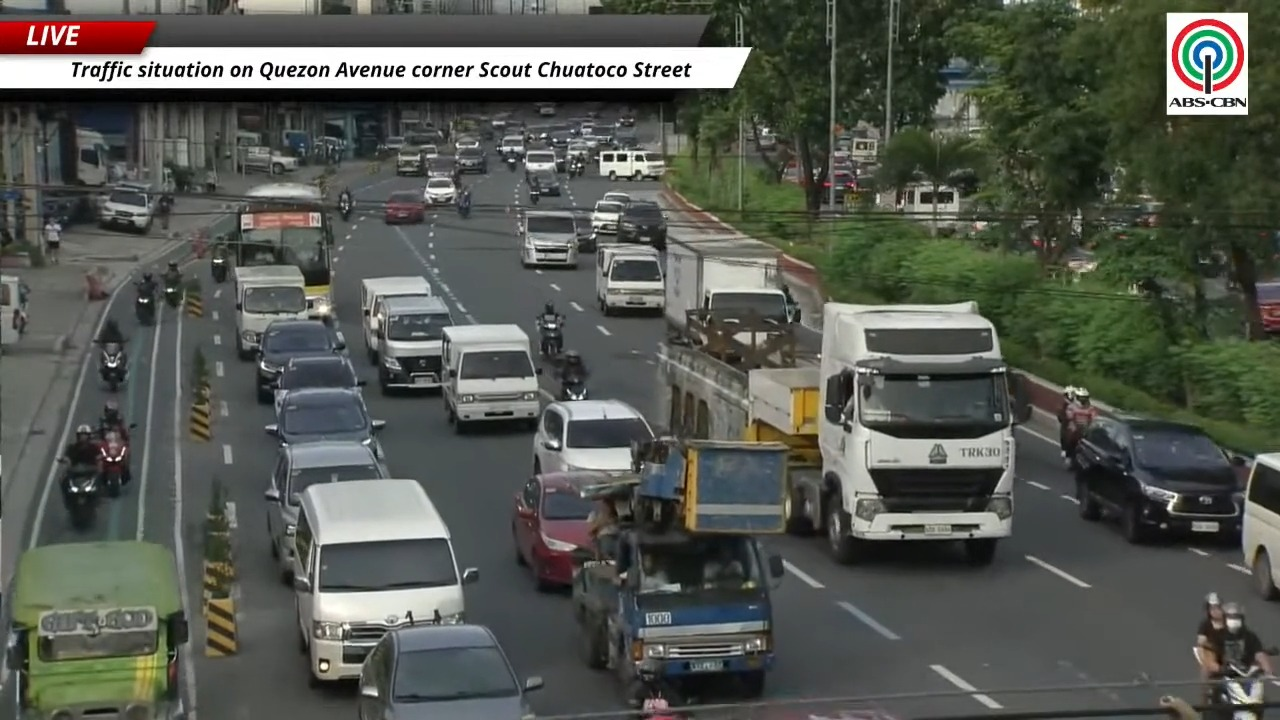bus: (229, 183, 333, 319)
car: (1071, 417, 1241, 543), (358, 617, 543, 719), (265, 441, 389, 583), (512, 472, 607, 589), (533, 399, 653, 473), (264, 388, 384, 457), (256, 319, 344, 403), (275, 354, 364, 412), (98, 184, 155, 233), (617, 202, 666, 250), (385, 190, 424, 224), (591, 200, 623, 233), (573, 209, 597, 252), (526, 170, 561, 196), (423, 177, 455, 204), (396, 142, 422, 175), (457, 147, 487, 172), (498, 134, 525, 157), (427, 156, 456, 177), (612, 130, 641, 149), (567, 140, 594, 159), (548, 129, 572, 149), (600, 191, 631, 205), (382, 136, 405, 154), (553, 144, 567, 172), (455, 137, 480, 151), (419, 144, 439, 159), (616, 112, 635, 127), (538, 103, 557, 117)
motorcycle: (631, 663, 684, 719), (1218, 663, 1265, 719), (62, 466, 100, 531), (1060, 411, 1095, 471), (98, 431, 129, 497), (99, 342, 126, 392), (539, 319, 563, 358), (135, 294, 154, 325), (559, 379, 587, 400), (211, 255, 227, 282), (164, 284, 182, 308), (339, 197, 352, 221), (569, 160, 584, 177), (457, 203, 470, 219), (505, 155, 517, 172), (529, 189, 540, 204)
truck: (658, 302, 1029, 564), (572, 437, 786, 698), (817, 301, 1026, 564), (6, 541, 188, 719), (664, 236, 793, 344), (36, 120, 110, 224)
